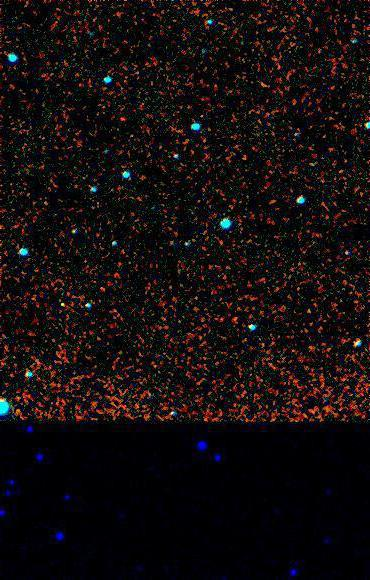star: (108, 102, 138, 132)
